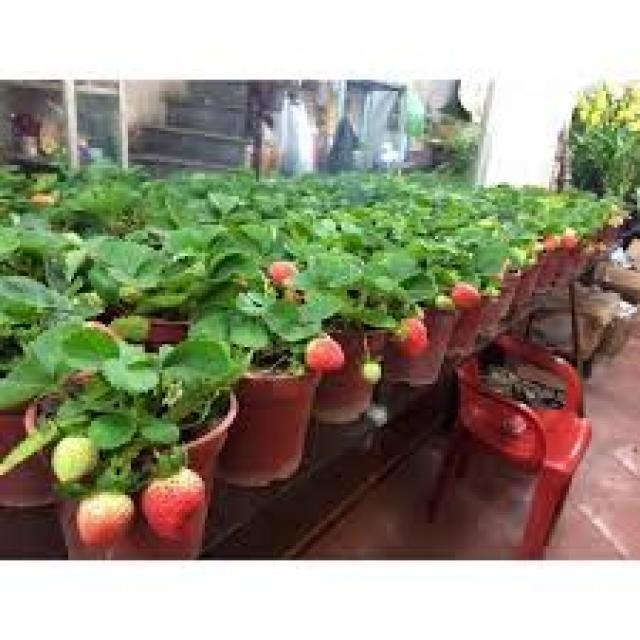Fruta sana: (146, 474, 210, 540), (73, 502, 134, 550), (306, 327, 352, 375), (400, 320, 436, 364), (265, 261, 306, 290), (456, 280, 484, 318)
